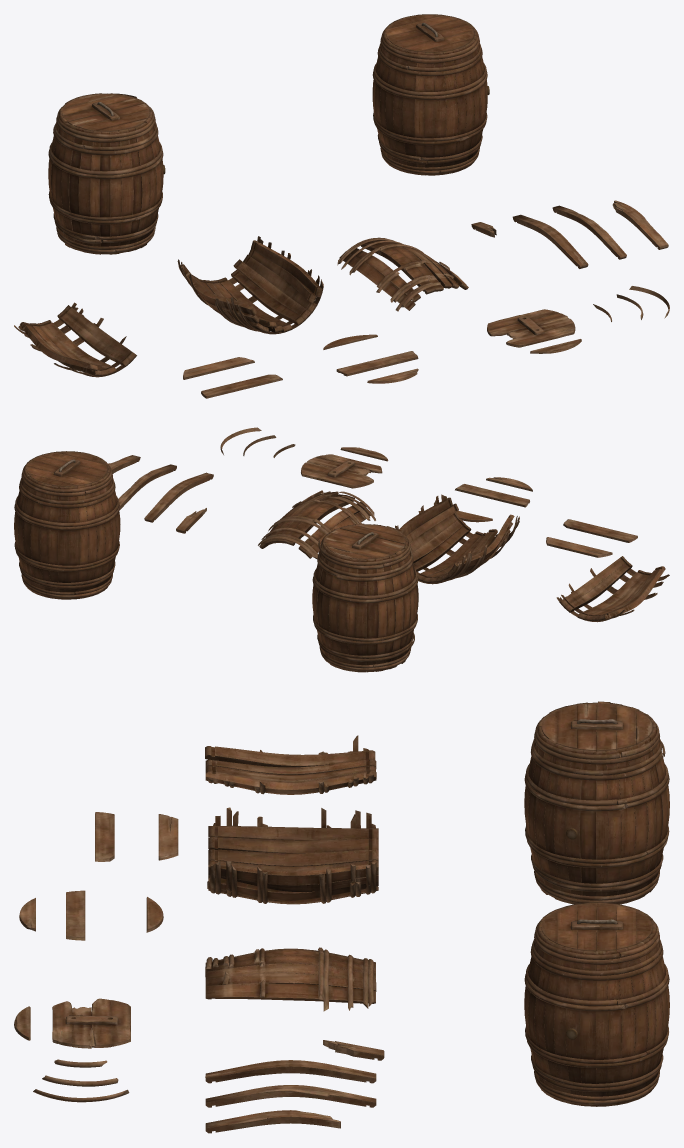
The model's file is wooden_barrels_01.glb.
3 views of the same model, one above another, from view 1: azimuth 30°, elevation 25°; view 2: azimuth 150°, elevation 25°; view 3: azimuth 270°, elevation 25° (orthographic). The views are drawn at different scales.
Visible parts, largest first — view 1: wooden_barrels_01_barrel02, wooden_barrels_01_barrel01, wooden_barrels_01_piece01, wooden_barrels_01_piece03, wooden_barrels_01_piece02, wooden_barrels_01_piece08, wooden_barrels_01_piece04, wooden_barrels_01_piece05, wooden_barrels_01_piece06, wooden_barrels_01_piece11, wooden_barrels_01_piece14, wooden_barrels_01_piece13; view 2: wooden_barrels_01_barrel02, wooden_barrels_01_barrel01, wooden_barrels_01_piece01, wooden_barrels_01_piece03, wooden_barrels_01_piece02, wooden_barrels_01_piece08, wooden_barrels_01_piece04, wooden_barrels_01_piece14, wooden_barrels_01_piece11, wooden_barrels_01_piece05, wooden_barrels_01_piece13; view 3: wooden_barrels_01_barrel01, wooden_barrels_01_barrel02, wooden_barrels_01_piece01, wooden_barrels_01_piece03, wooden_barrels_01_piece02, wooden_barrels_01_piece08, wooden_barrels_01_piece04, wooden_barrels_01_piece05, wooden_barrels_01_piece06, wooden_barrels_01_piece11, wooden_barrels_01_piece14, wooden_barrels_01_piece13 (+1 smaller).
Boxes of the visible parts, <box> form: wooden_barrels_01_barrel02: <box>48,93,165,254</box>; wooden_barrels_01_barrel01: <box>372,14,489,175</box>; wooden_barrels_01_piece01: <box>177,236,323,334</box>; wooden_barrels_01_piece03: <box>337,237,468,311</box>; wooden_barrels_01_piece02: <box>14,302,136,377</box>; wooden_barrels_01_piece08: <box>487,309,575,347</box>; wooden_barrels_01_piece04: <box>512,214,588,268</box>; wooden_barrels_01_piece05: <box>552,205,626,259</box>; wooden_barrels_01_piece06: <box>612,200,668,249</box>; wooden_barrels_01_piece11: <box>336,351,418,376</box>; wooden_barrels_01_piece14: <box>201,374,282,398</box>; wooden_barrels_01_piece13: <box>183,357,254,379</box>; wooden_barrels_01_barrel02: <box>312,523,418,672</box>; wooden_barrels_01_barrel01: <box>14,451,120,599</box>; wooden_barrels_01_piece01: <box>395,494,519,584</box>; wooden_barrels_01_piece03: <box>258,490,375,558</box>; wooden_barrels_01_piece02: <box>556,556,669,622</box>; wooden_barrels_01_piece08: <box>301,454,382,488</box>; wooden_barrels_01_piece04: <box>144,472,213,522</box>; wooden_barrels_01_piece14: <box>563,519,637,542</box>; wooden_barrels_01_piece11: <box>455,484,529,507</box>; wooden_barrels_01_piece05: <box>118,464,176,510</box>; wooden_barrels_01_piece13: <box>546,537,612,557</box>; wooden_barrels_01_barrel01: <box>524,902,669,1106</box>; wooden_barrels_01_barrel02: <box>524,701,669,904</box>; wooden_barrels_01_piece01: <box>207,807,378,904</box>; wooden_barrels_01_piece03: <box>205,947,376,1011</box>; wooden_barrels_01_piece02: <box>205,735,376,794</box>; wooden_barrels_01_piece08: <box>52,998,130,1048</box>; wooden_barrels_01_piece04: <box>205,1060,376,1083</box>; wooden_barrels_01_piece05: <box>205,1085,376,1107</box>; wooden_barrels_01_piece06: <box>205,1110,340,1133</box>; wooden_barrels_01_piece11: <box>66,890,85,940</box>; wooden_barrels_01_piece14: <box>95,812,114,861</box>; wooden_barrels_01_piece13: <box>158,814,178,860</box>.
Size of the model in its own units: 4.44 by 0.9567 by 3.34.
Materials: 3 (3 with a texture image).
